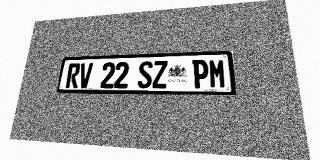2: (100, 62, 116, 88), (114, 62, 129, 88)
M: (209, 59, 227, 88)
P: (192, 59, 209, 88)
R: (65, 63, 81, 88)
S: (137, 61, 153, 88)
V: (78, 63, 93, 88)
Z: (152, 61, 168, 88)
